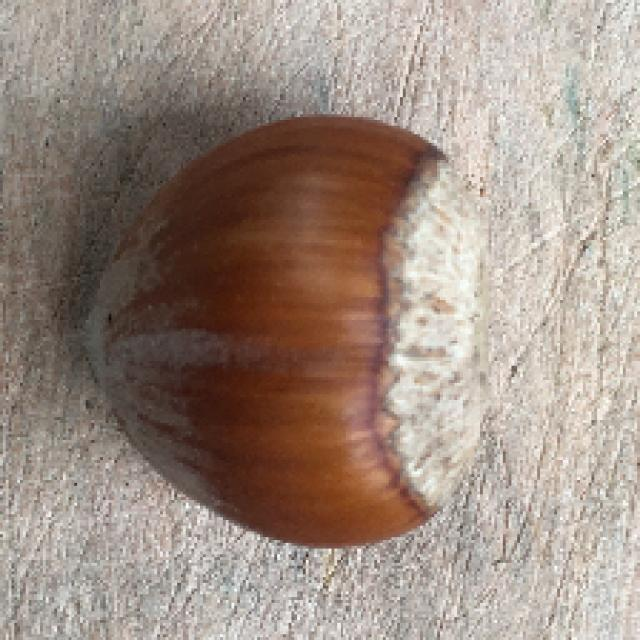QualityHazelnut: (74, 116, 489, 556)
